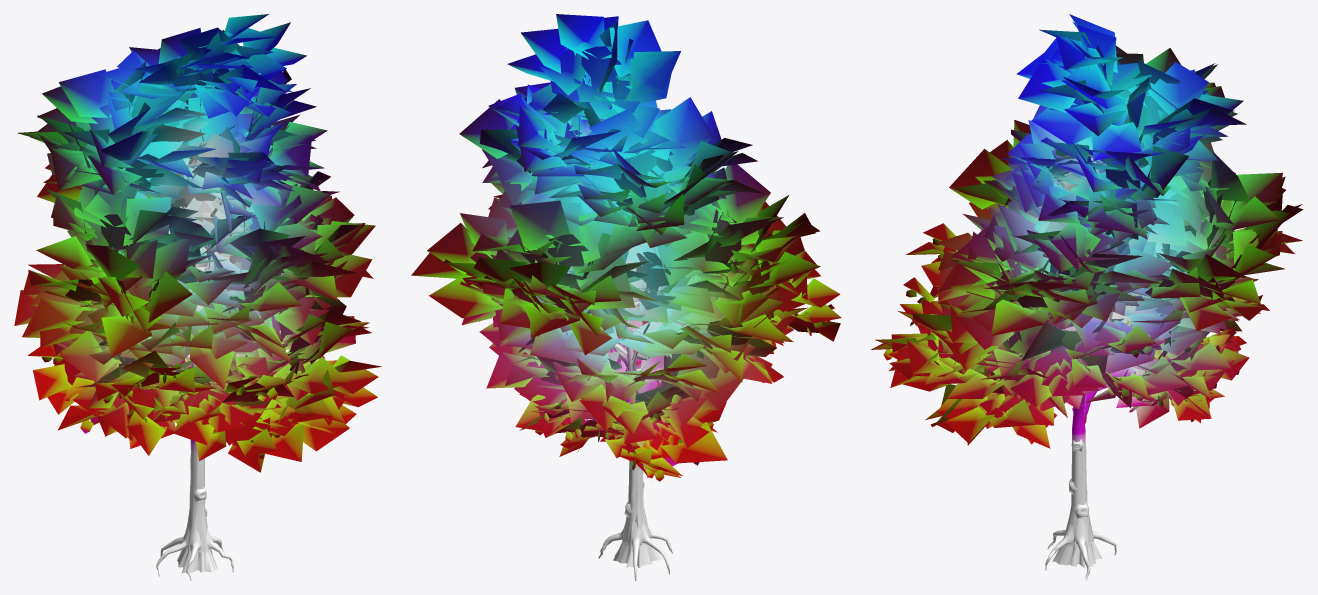
The model's file is arden_forest_maple_02_green.fbx.
The picture shows the model from 3 angles, left to right: view 1: azimuth 30°, elevation 25°; view 2: azimuth 150°, elevation 25°; view 3: azimuth 270°, elevation 25°; orthographic projection. The views are drawn at different scales.
Parts seen in each view (by area): view 1: arden_forest_maple_02_green_leaves, arden_forest_maple_02_green_bark; view 2: arden_forest_maple_02_green_leaves, arden_forest_maple_02_green_bark; view 3: arden_forest_maple_02_green_leaves, arden_forest_maple_02_green_bark.
Part boxes in pixels (left/top/right/bottom): arden_forest_maple_02_green_leaves: left=14, top=14, right=381, bottom=472; arden_forest_maple_02_green_bark: left=139, top=99, right=279, bottom=580; arden_forest_maple_02_green_leaves: left=411, top=14, right=841, bottom=481; arden_forest_maple_02_green_bark: left=578, top=110, right=732, bottom=580; arden_forest_maple_02_green_leaves: left=871, top=14, right=1303, bottom=448; arden_forest_maple_02_green_bark: left=1045, top=177, right=1208, bottom=580.
Bounding box in the file's own units: 8.56 × 9.79 × 13.7.
